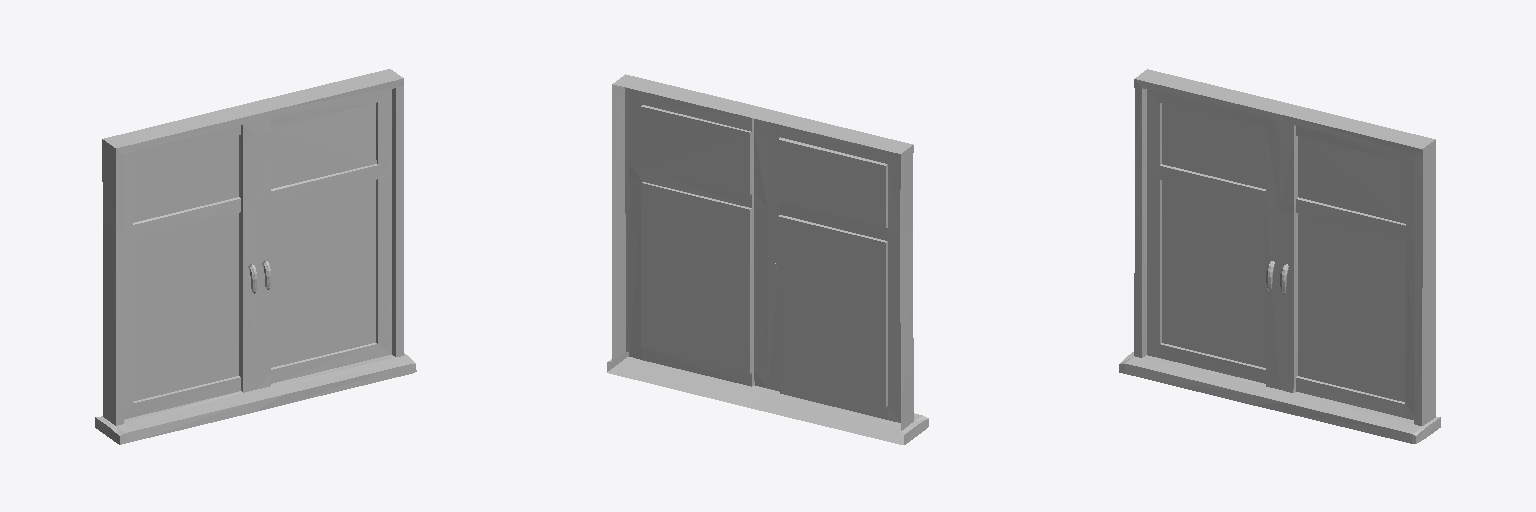
The model's file is window.obj.
3 renders of one model, left to right at view 1: azimuth 30°, elevation 25°; view 2: azimuth 150°, elevation 25°; view 3: azimuth 330°, elevation 25°, orthographic.
Parts seen in each view (by area): view 1: Object_2_Object_0; view 2: Object_2_Object_0; view 3: Object_2_Object_0.
Part boxes in pixels (bbox=[...]): Object_2_Object_0: bbox=[95, 69, 416, 444]; Object_2_Object_0: bbox=[607, 74, 928, 444]; Object_2_Object_0: bbox=[1119, 69, 1440, 443].
Size of the model in its own units: 2.38 by 2.21 by 0.3489.